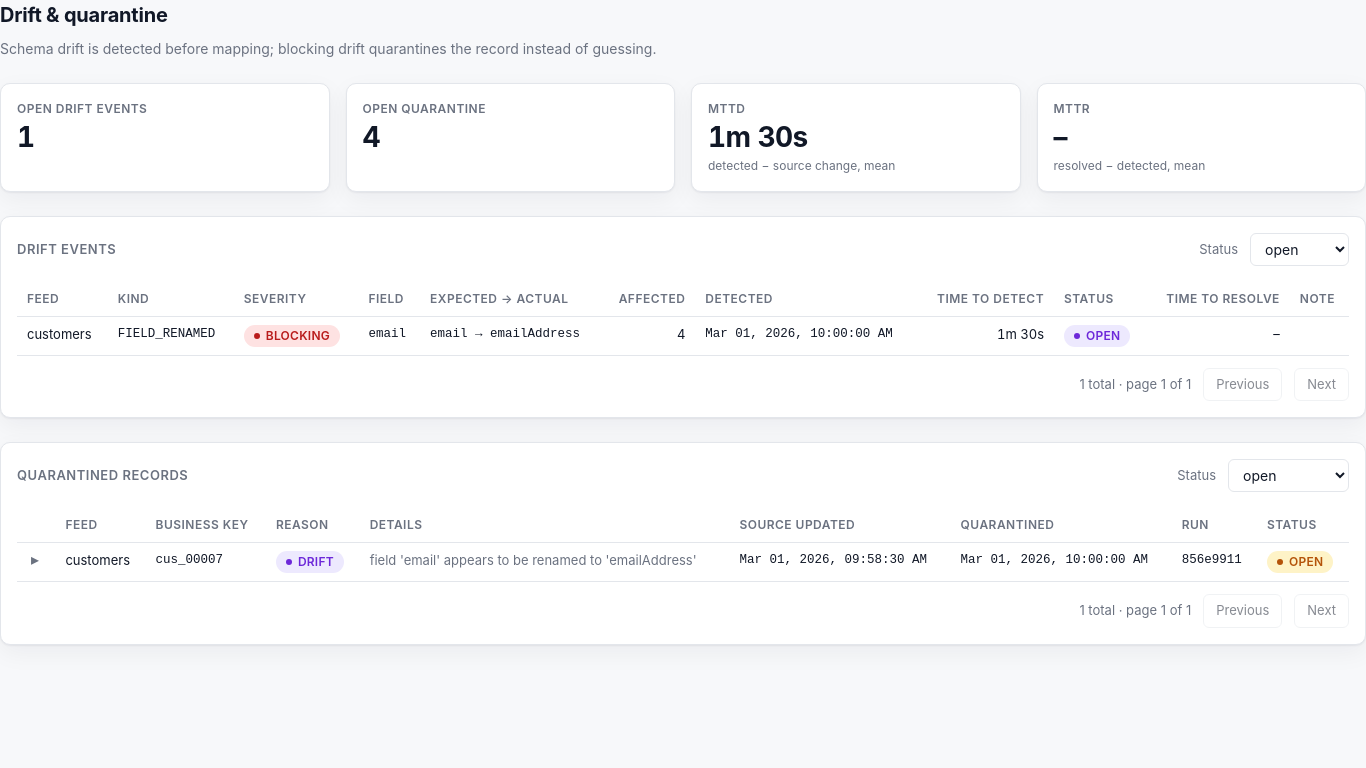
Test: DriftPage › shows drift events, quarantined records and expands the raw payload
Expected: the text "FIELD_RENAMED" is shown, [108,316,234,355]
Expected: the text "email → emailAddress" is shown, [420,316,602,355]
Click the button named "Show payload of cus_00007" at (35, 559), box [27,551,43,567]
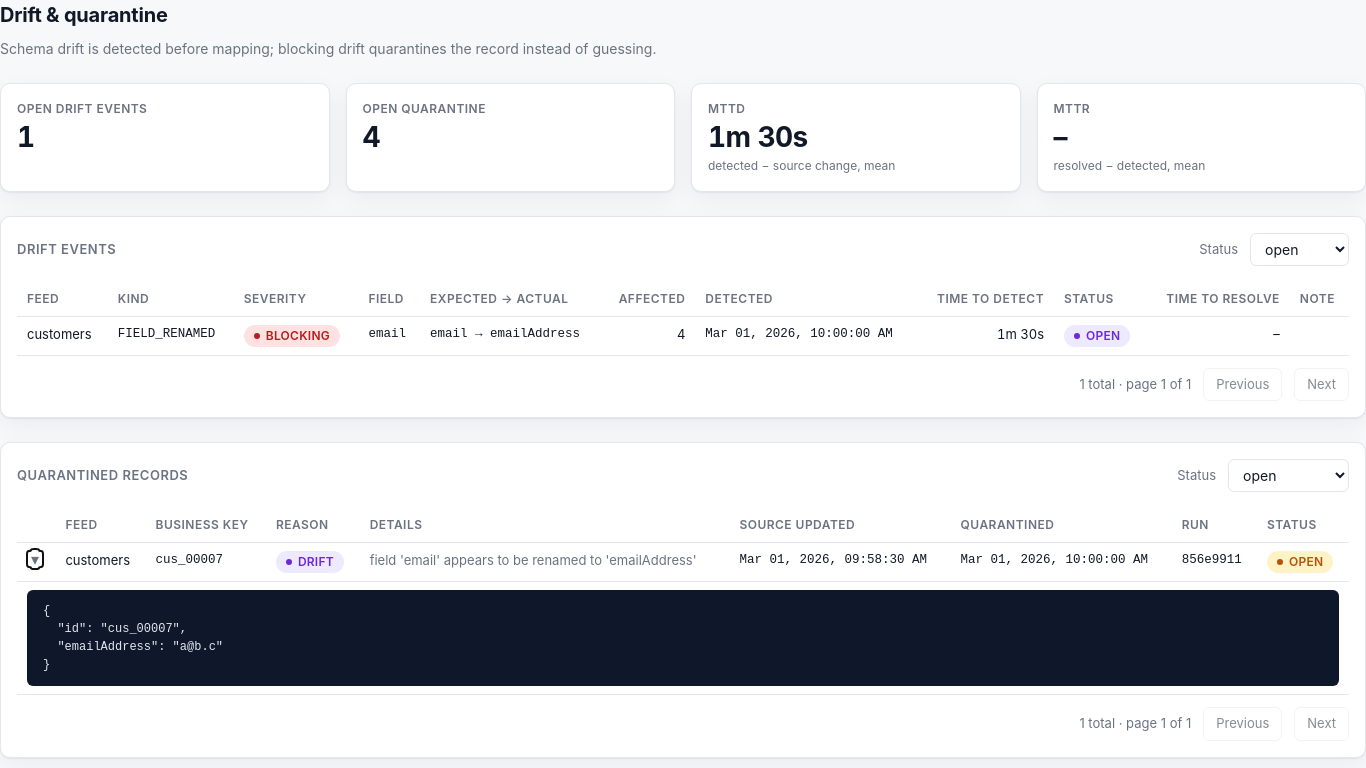
Expected: the text "{ \"id\": \"cus_00007\", \"emailAddress\": \"a@b.c\" }" is shown, [27,590,1339,686]
